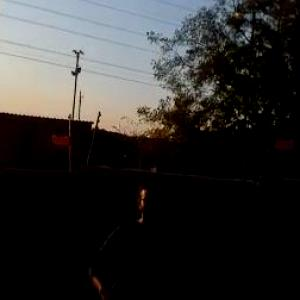follow: (81, 161, 189, 299)
